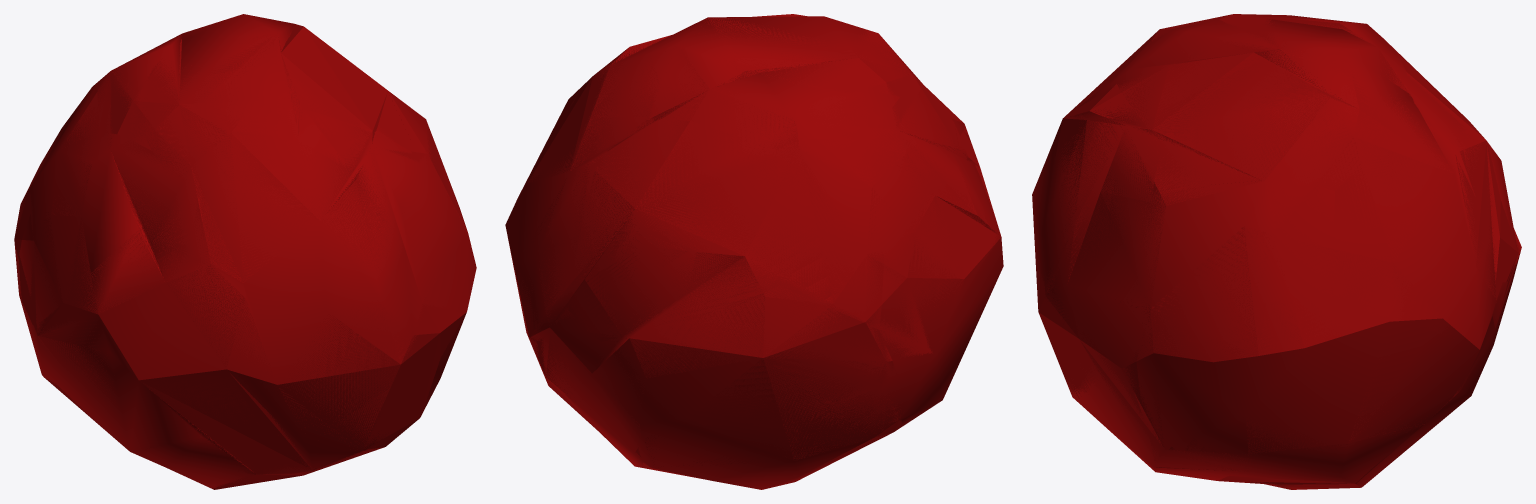
The model's file is rock shutter.fbx.
3 views of the same model, side by side, from view 1: azimuth 30°, elevation 25°; view 2: azimuth 150°, elevation 25°; view 3: azimuth 270°, elevation 25° (orthographic). The views are drawn at different scales.
Visible parts, largest first — view 1: rock full, rock full001_Part_15, rock full001_Part_9, rock full001_Part_4, rock full001_Part_6, rock full001_Part_5, rock full001_Part_12, rock full001_Part_8, rock full001_Part_11; view 2: rock full, rock full001_Part_14, rock full001_Part_2, rock full001_Part_6, rock full001_Part_8, rock full001_Part_9, rock full001_Part_10, rock full001_Part_12, rock full001_Part_5, rock full001_Part_1, rock full001_Part_3, rock full001_Part_4; view 3: rock full, rock full001_Part_5, rock full001_Part_15, rock full001_Part_10, rock full001_Part_9, rock full001_Part_13, rock full001_Part_11, rock full001_Part_14, rock full001_Part_3.
Part boxes in pixels (left/top/right/bottom): rock full: left=14, top=14, right=476, bottom=488; rock full001_Part_15: left=191, top=133, right=471, bottom=477; rock full001_Part_9: left=140, top=34, right=376, bottom=196; rock full001_Part_4: left=33, top=245, right=291, bottom=489; rock full001_Part_6: left=18, top=130, right=199, bottom=325; rock full001_Part_5: left=290, top=25, right=416, bottom=156; rock full001_Part_12: left=97, top=39, right=181, bottom=143; rock full001_Part_8: left=14, top=82, right=98, bottom=258; rock full001_Part_11: left=387, top=90, right=467, bottom=232; rock full: left=509, top=16, right=1003, bottom=489; rock full001_Part_14: left=569, top=117, right=778, bottom=341; rock full001_Part_2: left=604, top=285, right=895, bottom=425; rock full001_Part_6: left=867, top=88, right=988, bottom=376; rock full001_Part_8: left=776, top=138, right=883, bottom=329; rock full001_Part_9: left=656, top=14, right=927, bottom=97; rock full001_Part_10: left=508, top=101, right=604, bottom=343; rock full001_Part_12: left=647, top=82, right=888, bottom=149; rock full001_Part_5: left=573, top=38, right=659, bottom=151; rock full001_Part_1: left=635, top=385, right=902, bottom=476; rock full001_Part_3: left=537, top=310, right=645, bottom=467; rock full001_Part_4: left=894, top=131, right=999, bottom=431; rock full: left=1032, top=15, right=1521, bottom=489; rock full001_Part_5: left=1153, top=74, right=1440, bottom=190; rock full001_Part_15: left=1035, top=67, right=1175, bottom=471; rock full001_Part_10: left=1333, top=140, right=1497, bottom=334; rock full001_Part_9: left=1118, top=14, right=1364, bottom=140; rock full001_Part_13: left=1138, top=294, right=1451, bottom=471; rock full001_Part_11: left=1142, top=180, right=1334, bottom=335; rock full001_Part_14: left=1393, top=48, right=1517, bottom=282; rock full001_Part_3: left=1218, top=281, right=1507, bottom=489.
Size of the model in its own units: 0.5458 by 0.5492 by 0.5523.
